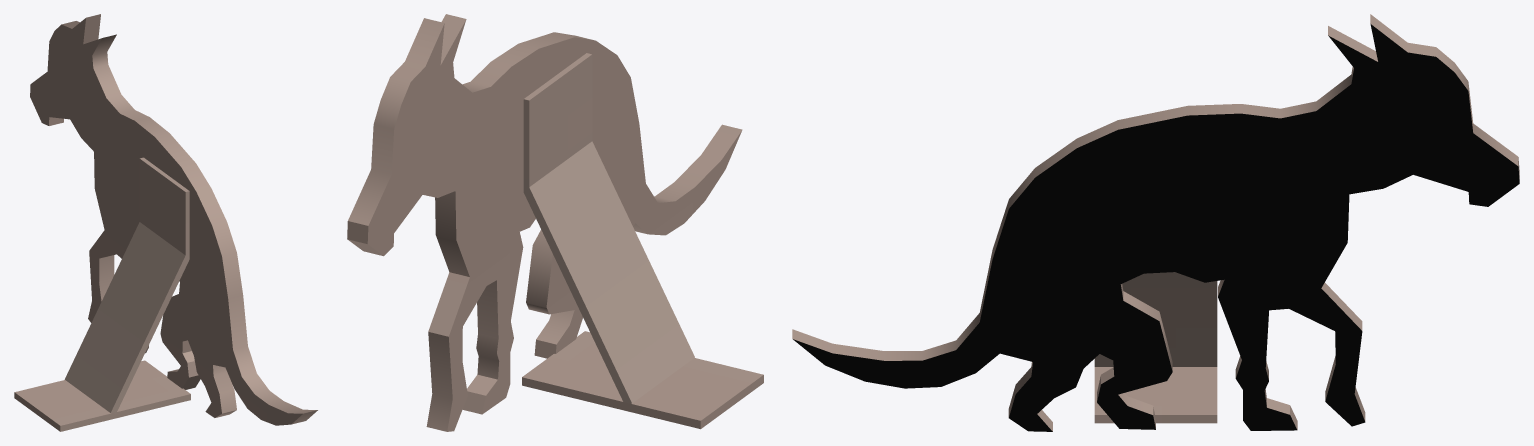
Rendered from Hund 1.FBX.
The picture shows the model from 3 angles, left to right: view 1: azimuth 30°, elevation 25°; view 2: azimuth 150°, elevation 25°; view 3: azimuth 270°, elevation 25°; orthographic projection. The views are drawn at different scales.
Visible parts, largest first — view 1: Hund 1; view 2: Hund 1; view 3: Hund 1.
Boxes of the visible parts, <box> form: Hund 1: <box>14,14,317,431</box>; Hund 1: <box>347,14,763,431</box>; Hund 1: <box>792,14,1519,431</box>.
Bounding box in the file's own units: 28.83 × 58.61 × 94.66.
